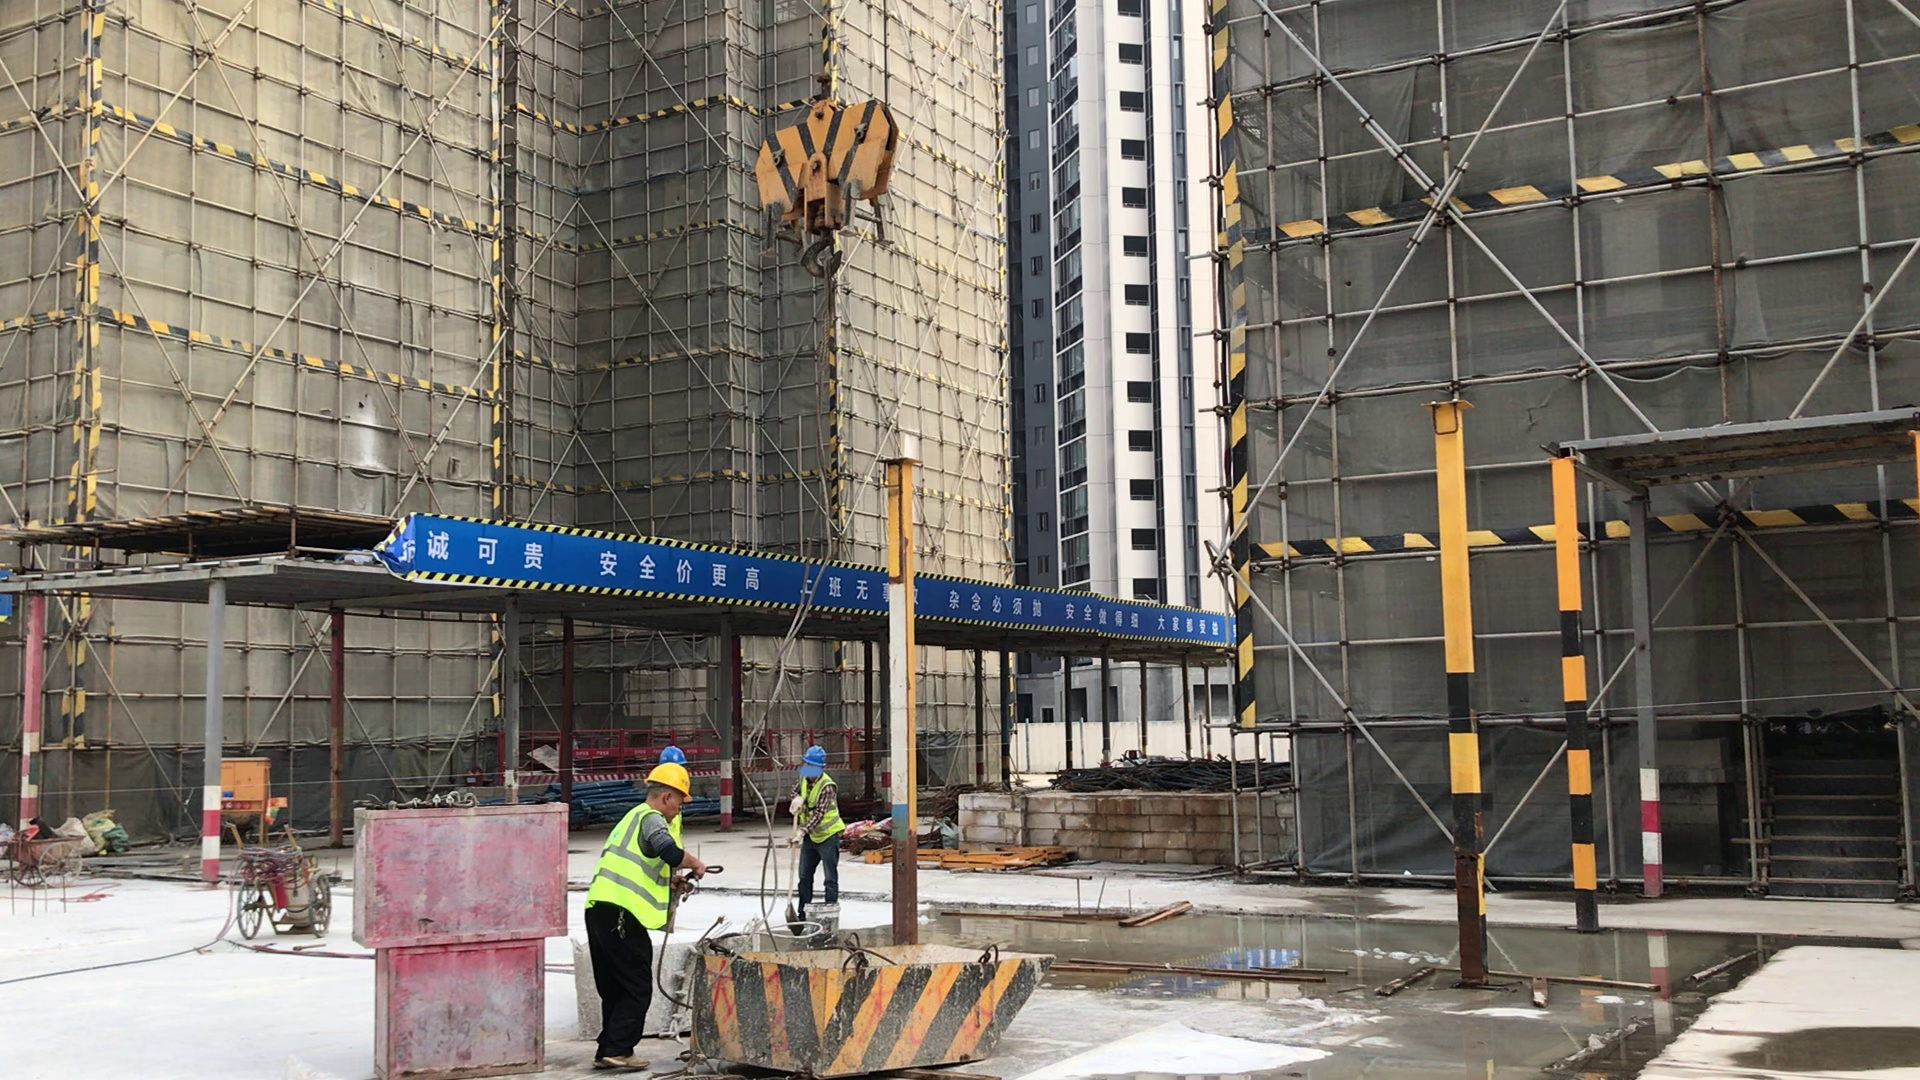ebox: (227, 750, 270, 846)
fence: (577, 728, 648, 778), (693, 730, 719, 775)
handcart: (226, 819, 332, 941), (10, 830, 87, 893)
helmet: (643, 764, 696, 803), (657, 744, 690, 764), (800, 744, 826, 769)
hook: (744, 85, 906, 269)
hopper: (688, 937, 1059, 1071)
person: (578, 763, 706, 1080), (788, 742, 846, 906)
slogan: (415, 516, 885, 616), (917, 574, 1228, 656)
vest: (585, 803, 682, 934), (796, 771, 847, 846)
